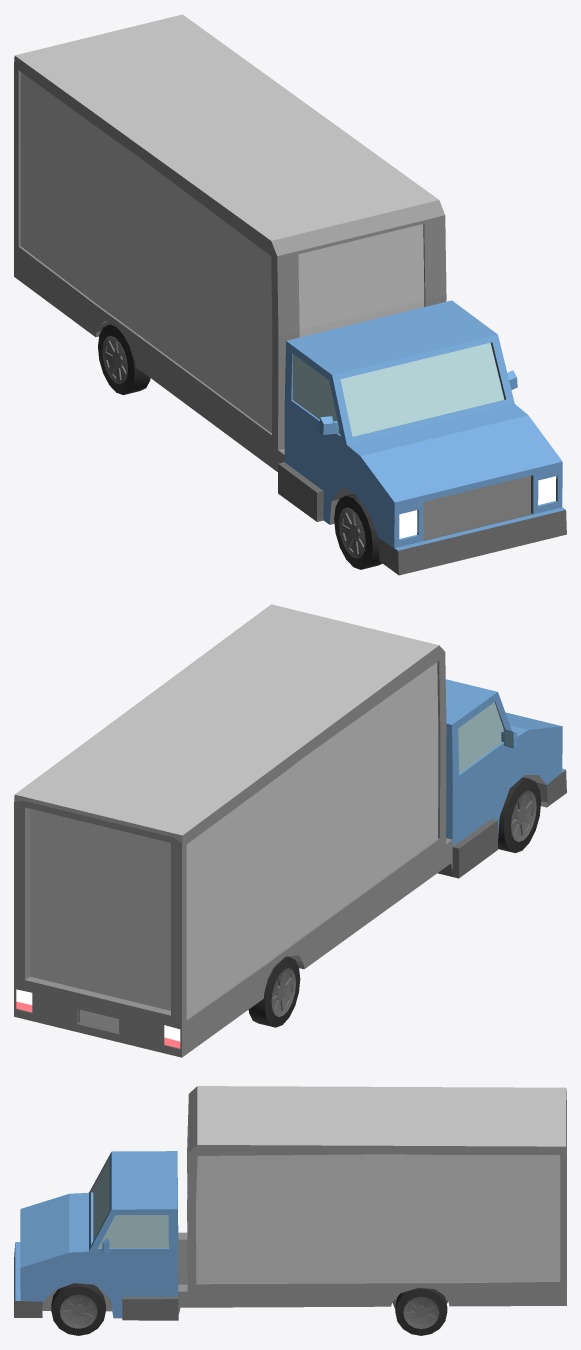
Rendered from truck.gltf.
The picture shows the model from 3 angles, top to bottom: view 1: azimuth 30°, elevation 25°; view 2: azimuth 150°, elevation 25°; view 3: azimuth 270°, elevation 25°; orthographic projection. The views are drawn at different scales.
Visible parts, largest first — view 1: Cube.012_15, Cube.010_13, Cube.011_14, Cube.014_17, Cube.008_11, Wheel.001_19, Wheel.004_21, Cube.009_12; view 2: Cube.012_15, Cube.004_7, Cube.011_14, Cube.003_6, Cube.010_13, Wheel.001_19, Wheel.004_21, Cube.008_11, Cube.014_17, Cube.002_5, Cube_0, Cube.001_4; view 3: Cube.012_15, Cube.010_13, Cube.011_14, Cube.014_17, Wheel.003_18, Wheel.002_20, Cube.008_11, Cube.001_4.
Boxes of the visible parts, x1,y1,x2,y2 form: Cube.012_15: [15, 14, 438, 432]; Cube.010_13: [284, 300, 565, 550]; Cube.011_14: [14, 56, 530, 538]; Cube.014_17: [293, 342, 504, 436]; Cube.008_11: [278, 462, 566, 575]; Wheel.001_19: [334, 494, 382, 569]; Wheel.004_21: [98, 324, 150, 394]; Cube.009_12: [399, 476, 556, 538]; Cube.012_15: [15, 604, 438, 1018]; Cube.004_7: [30, 808, 170, 1010]; Cube.011_14: [182, 645, 524, 1057]; Cube.003_6: [14, 775, 547, 1057]; Cube.010_13: [445, 679, 565, 846]; Wheel.001_19: [498, 777, 541, 853]; Wheel.004_21: [248, 956, 300, 1027]; Cube.008_11: [452, 770, 566, 878]; Cube.014_17: [458, 702, 503, 773]; Cube.002_5: [17, 702, 504, 1055]; Cube_0: [15, 989, 180, 1049]; Cube.001_4: [76, 873, 458, 1034]; Cube.012_15: [188, 1086, 565, 1283]; Cube.010_13: [15, 1151, 178, 1318]; Cube.011_14: [42, 1086, 566, 1315]; Cube.014_17: [93, 1164, 168, 1248]; Wheel.003_18: [51, 1283, 105, 1335]; Wheel.002_20: [395, 1287, 447, 1335]; Cube.008_11: [14, 1238, 178, 1320]; Cube.001_4: [178, 1239, 187, 1318].
Size of the model in its own units: 1.31 by 1.71 by 4.48.
